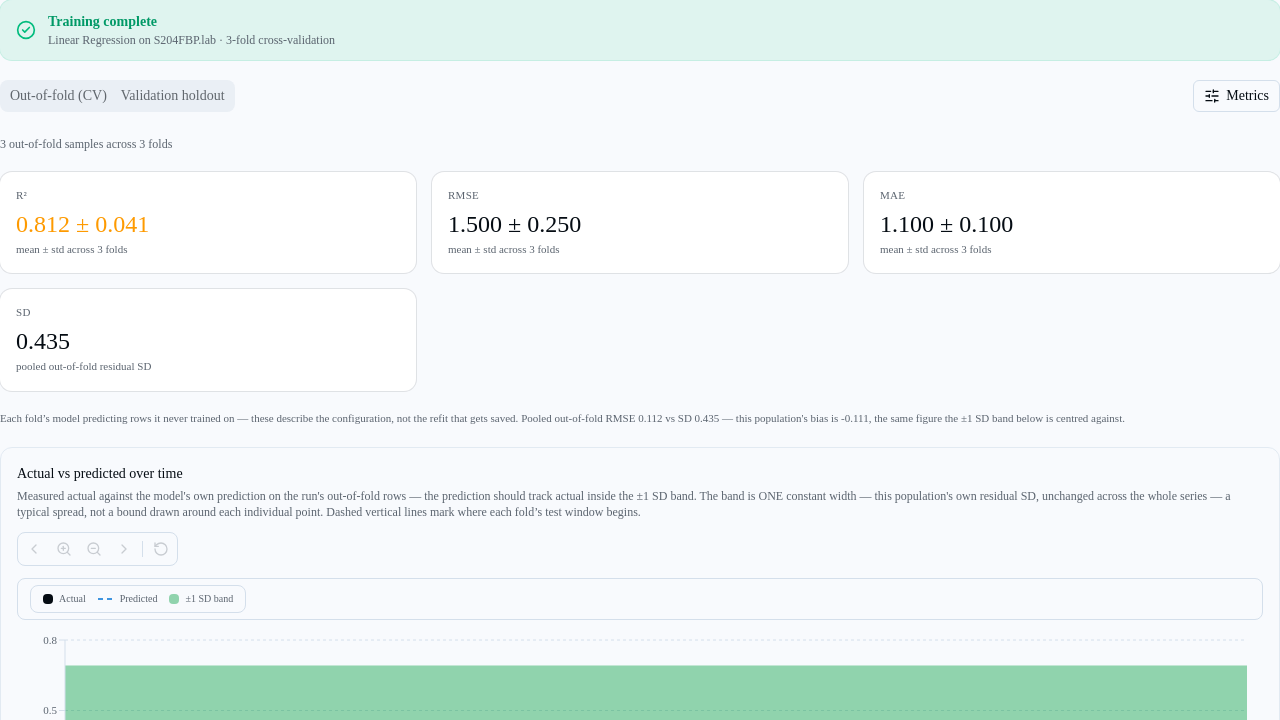
Test: Phase5Evaluation — tabs for every run (MODEL-FLOW-030) › renders the per-fold table once, outside the tabs, before any scoring
Expected: the text "Per-fold configuration metrics" is not shown
Click the tab "Validation holdout".
click(173, 96)  # box [114,83,232,109]
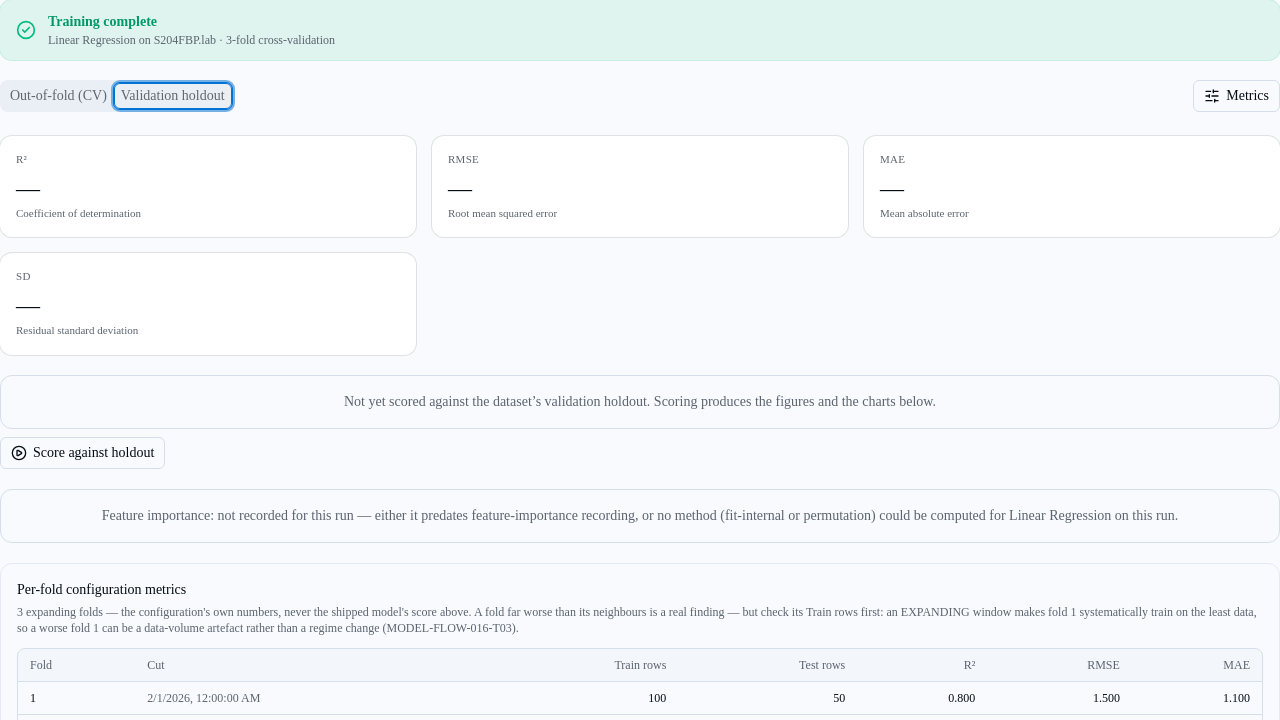
Result: the number of headings "Per-fold configuration metrics" is 1 at [17,582,186,597]
